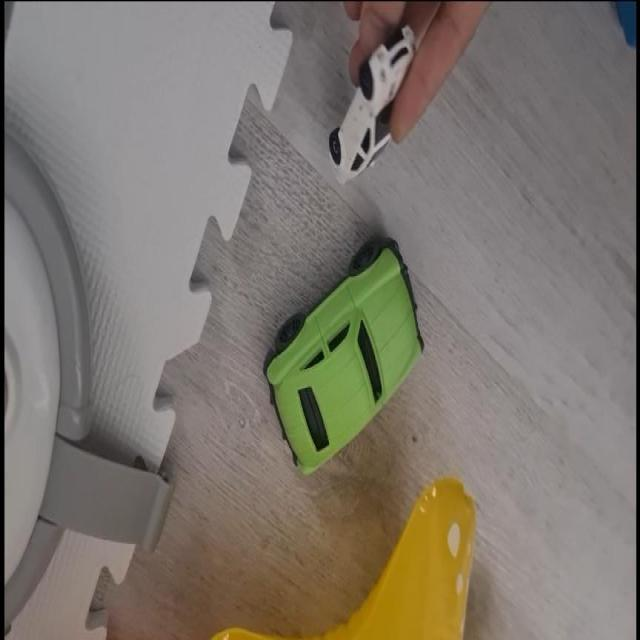hard-toy: (267, 241, 424, 475), (331, 27, 416, 183)
